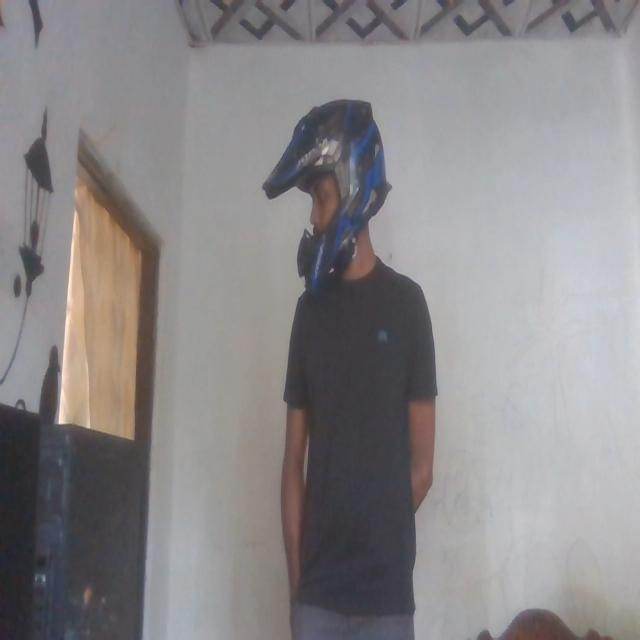Helmet_Wearer: (267, 89, 399, 287)
Person: (267, 90, 439, 640)
